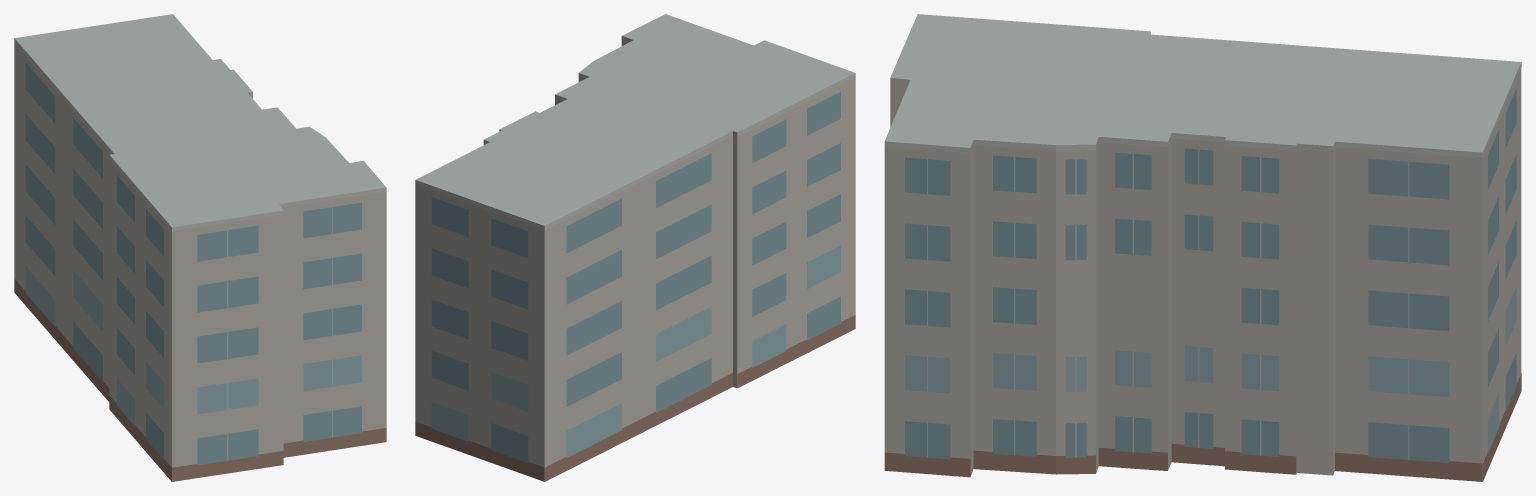
File: survey-upis-32575835.glb
The picture shows the model from 3 angles, left to right: view 1: azimuth 30°, elevation 25°; view 2: azimuth 150°, elevation 25°; view 3: azimuth 270°, elevation 25°; orthographic projection. The views are drawn at different scales.
Visible parts, largest first — view 1: survey-upis-32575835.tmp; view 2: survey-upis-32575835.tmp; view 3: survey-upis-32575835.tmp.
Boxes of the visible parts, box(x1,y1,x2,y2) form: survey-upis-32575835.tmp: box(14, 14, 386, 481); survey-upis-32575835.tmp: box(415, 14, 855, 481); survey-upis-32575835.tmp: box(884, 14, 1521, 481).
Size of the model in its own units: 13.18 by 14.6 by 25.6.
